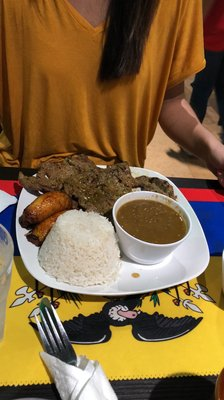burger: (27, 297, 78, 367)
